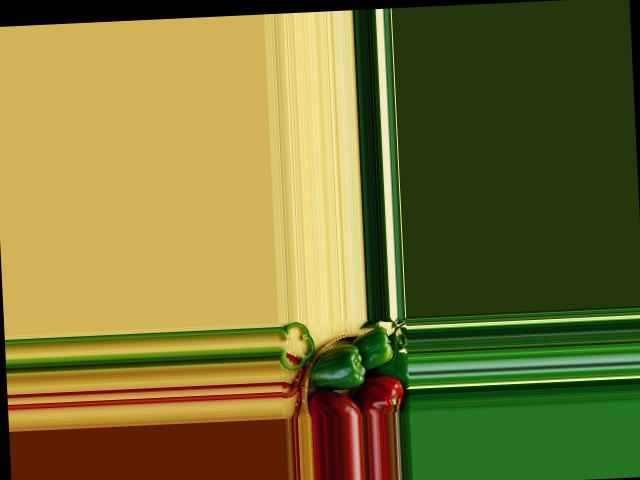bell_pepper: (307, 390, 362, 416)
